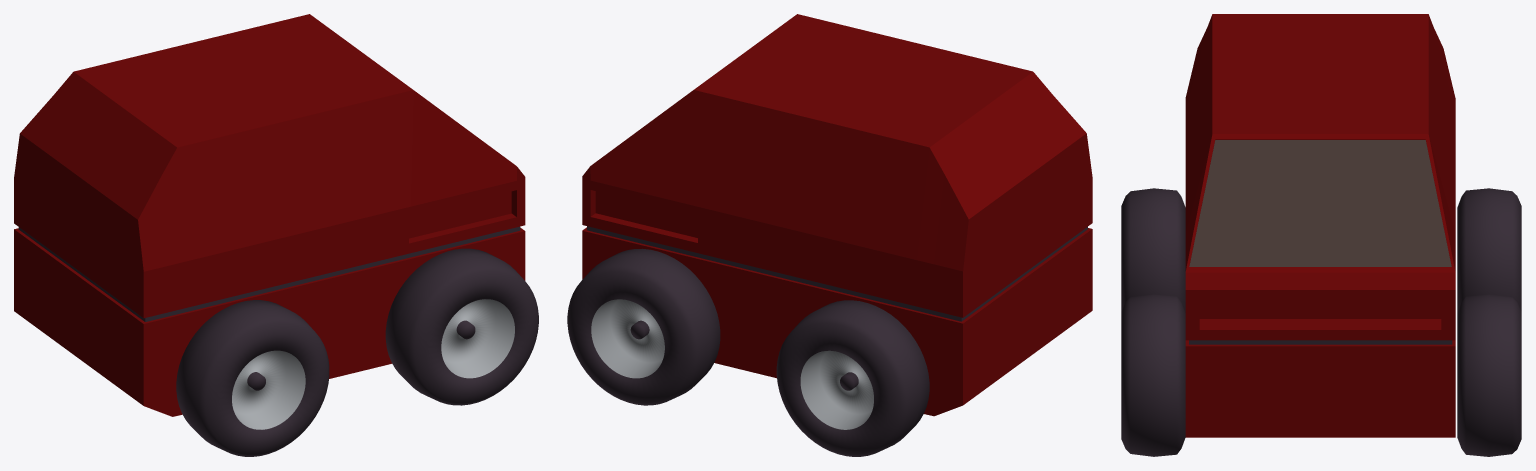
Rendered from atrv.dae.
3 views of the same model, side by side, from view 1: azimuth 30°, elevation 25°; view 2: azimuth 150°, elevation 25°; view 3: azimuth 270°, elevation 25° (orthographic). The views are drawn at different scales.
Parts seen in each view (by area): view 1: ATRV, Wheel2, Wheel3; view 2: ATRV, Wheel1, Wheel4; view 3: ATRV, Wheel1, Wheel2, Wheel4, Wheel3.
Part boxes in pixels (x1,y1,x2,y2): ATRV: (14,14,525,416); Wheel2: (385,248,538,405); Wheel3: (176,300,329,456); ATRV: (582,14,1092,416); Wheel1: (567,248,720,405); Wheel4: (776,300,929,456); ATRV: (1185,14,1455,437); Wheel1: (1457,294,1521,456); Wheel2: (1121,294,1185,456); Wheel4: (1457,188,1521,312); Wheel3: (1121,188,1185,312).
Size of the model in its own units: 1.14 by 0.9947 by 0.8359.
